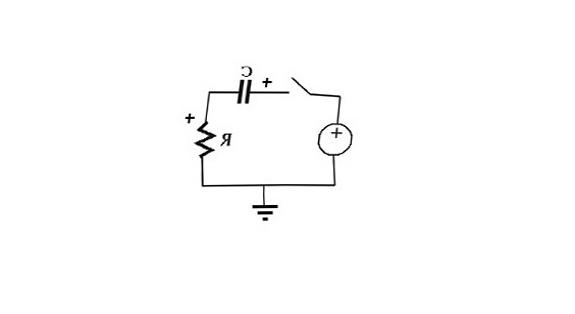Battery: (306, 114, 370, 167)
